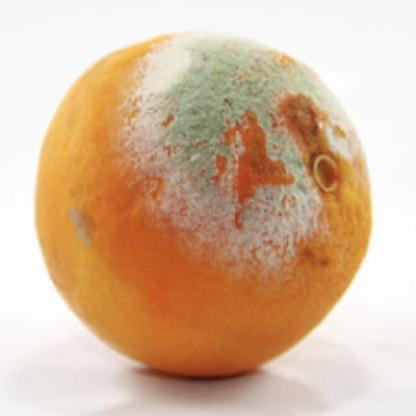rotten: (36, 38, 375, 387)
